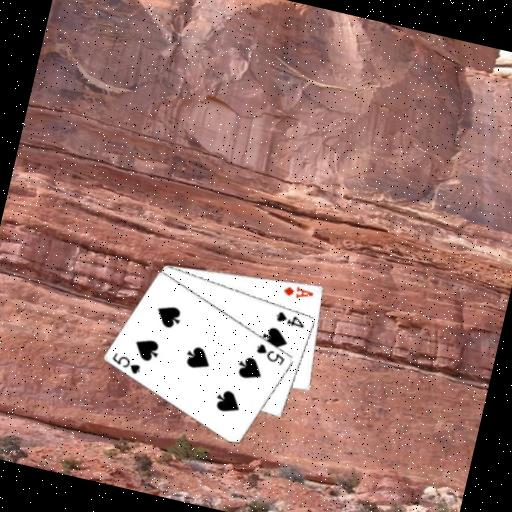4S: (272, 308, 308, 331)
5S: (251, 339, 289, 368), (107, 349, 144, 377)
AD: (280, 280, 317, 303)
